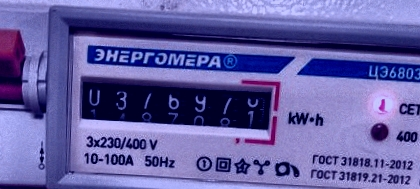0: (87, 83, 102, 106)
1: (244, 108, 257, 128)
3: (114, 88, 129, 110)
6: (166, 86, 182, 110)
7: (139, 86, 155, 109), (219, 91, 234, 115)
9: (191, 89, 207, 113)
screen: (69, 66, 283, 148)
